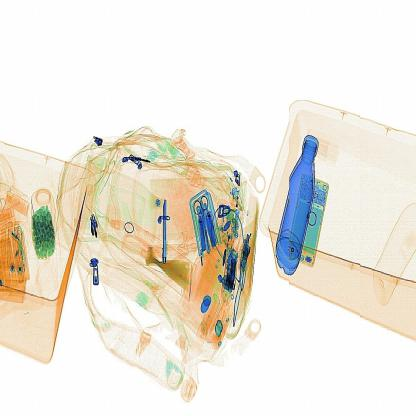pliers: (151, 196, 184, 265)
